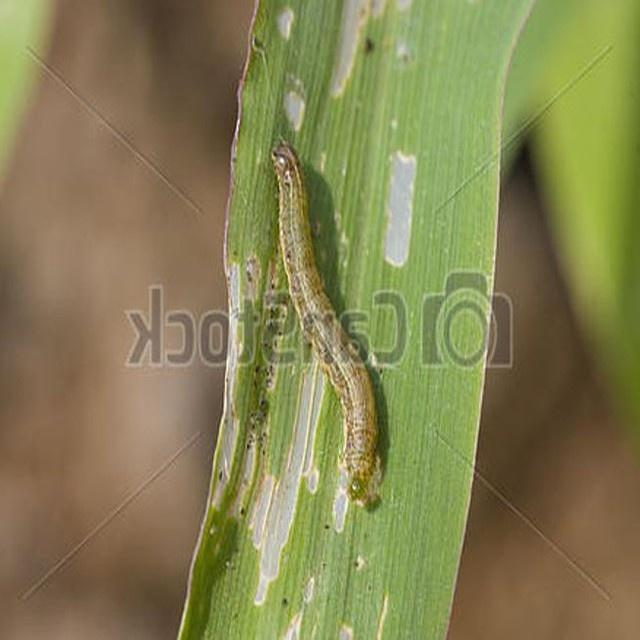gusano_cogollero: (266, 133, 388, 513)
